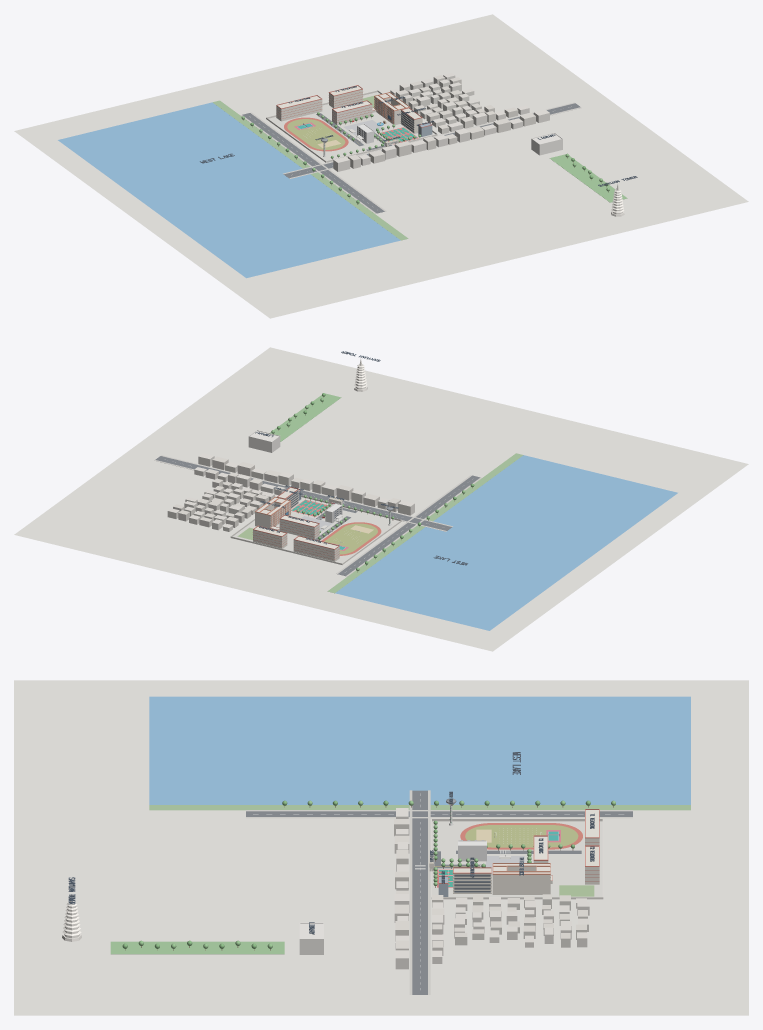
The model's file is leizhou-no2-gemini-v1.glb.
The picture shows the model from 3 angles, top to bottom: view 1: azimuth 30°, elevation 25°; view 2: azimuth 150°, elevation 25°; view 3: azimuth 270°, elevation 25°; orthographic projection. The views are drawn at different scales.
Visible parts, largest first — view 1: Surrounding_Terrain, West_Lake, Roads_Asphalt, Street_Shops_A, Street_Shops_B, East_Residential_A, Campus_Ground, East_Residential_B, Lakeside_Greenbelt, Road_Sidewalks, Athletic_Field_Grass, Sanyuan_Park (+7 smaller); view 2: Surrounding_Terrain, West_Lake, Roads_Asphalt, Street_Shops_A, Street_Shops_B, East_Residential_A, East_Residential_B, Lakeside_Greenbelt, Campus_Ground, Road_Sidewalks, Sanyuan_Park, Athletic_Field_Grass (+8 smaller); view 3: Surrounding_Terrain, West_Lake, Roads_Asphalt, Campus_Ground, Road_Sidewalks, Lakeside_Greenbelt, East_Residential_A, East_Residential_B, Sanyuan_Park, Street_Shops_B, Athletic_Field_Grass, T4_East_Block (+11 smaller).
Part boxes in pixels (left/top/right/bottom): Surrounding_Terrain: left=14, top=14, right=748, bottom=318; West_Lake: left=58, top=102, right=400, bottom=278; Roads_Asphalt: left=242, top=103, right=580, bottom=213; Street_Shops_A: left=333, top=105, right=549, bottom=171; Street_Shops_B: left=348, top=107, right=535, bottom=168; East_Residential_A: left=390, top=73, right=479, bottom=127; Campus_Ground: left=268, top=92, right=435, bottom=160; East_Residential_B: left=396, top=75, right=494, bottom=123; Lakeside_Greenbelt: left=213, top=100, right=408, bottom=240; Road_Sidewalks: left=240, top=102, right=581, bottom=213; Athletic_Field_Grass: left=287, top=119, right=345, bottom=149; Sanyuan_Park: left=549, top=154, right=627, bottom=202; Surrounding_Terrain: left=14, top=347, right=748, bottom=651; West_Lake: left=335, top=455, right=677, bottom=630; Roads_Asphalt: left=155, top=456, right=480, bottom=575; Street_Shops_A: left=194, top=453, right=414, bottom=515; Street_Shops_B: left=205, top=456, right=400, bottom=511; East_Residential_A: left=167, top=482, right=274, bottom=531; East_Residential_B: left=173, top=478, right=268, bottom=527; Lakeside_Greenbelt: left=327, top=453, right=523, bottom=593; Campus_Ground: left=233, top=497, right=399, bottom=563; Road_Sidewalks: left=154, top=455, right=481, bottom=576; Sanyuan_Park: left=269, top=393, right=341, bottom=441; Athletic_Field_Grass: left=324, top=523, right=377, bottom=554; Surrounding_Terrain: left=14, top=680, right=748, bottom=1015; West_Lake: left=149, top=696, right=690, bottom=804; Roads_Asphalt: left=246, top=790, right=632, bottom=994; Campus_Ground: left=432, top=821, right=602, bottom=896; Road_Sidewalks: left=246, top=790, right=632, bottom=994; Lakeside_Greenbelt: left=149, top=805, right=690, bottom=810; East_Residential_A: left=454, top=897, right=589, bottom=947; East_Residential_B: left=454, top=894, right=587, bottom=947; Sanyuan_Park: left=110, top=941, right=284, bottom=954; Street_Shops_B: left=394, top=819, right=444, bottom=955; Athletic_Field_Grass: left=465, top=825, right=578, bottom=847; T4_East_Block: left=492, top=864, right=550, bottom=894.
Bounding box in the file's own units: 820 × 53.85 × 760.
